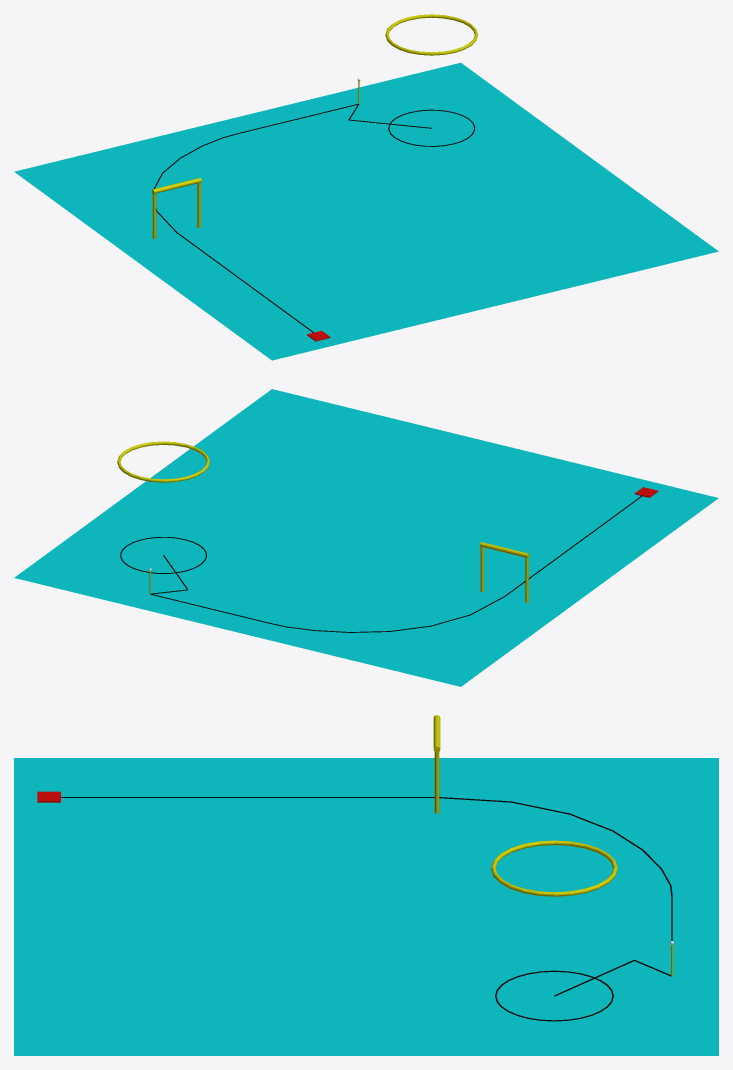
Rendered from singapore_scena.dae.
3 renders of one model, top to bottom at view 1: azimuth 30°, elevation 25°; view 2: azimuth 150°, elevation 25°; view 3: azimuth 270°, elevation 25°, orthographic. The views are drawn at different scales.
Parts seen in each view (by area): view 1: Plane001, Torus001; view 2: Plane001, Torus001; view 3: Plane001, Torus001.
Part boxes in pixels (box(x1,y1,x2,y2)): Plane001: box(14, 62, 718, 360); Torus001: box(385, 14, 477, 55); Plane001: box(14, 389, 718, 686); Torus001: box(117, 441, 209, 482); Plane001: box(14, 758, 718, 1055); Torus001: box(491, 840, 617, 896).
Size of the model in its own units: 30 by 30 by 6.13.
